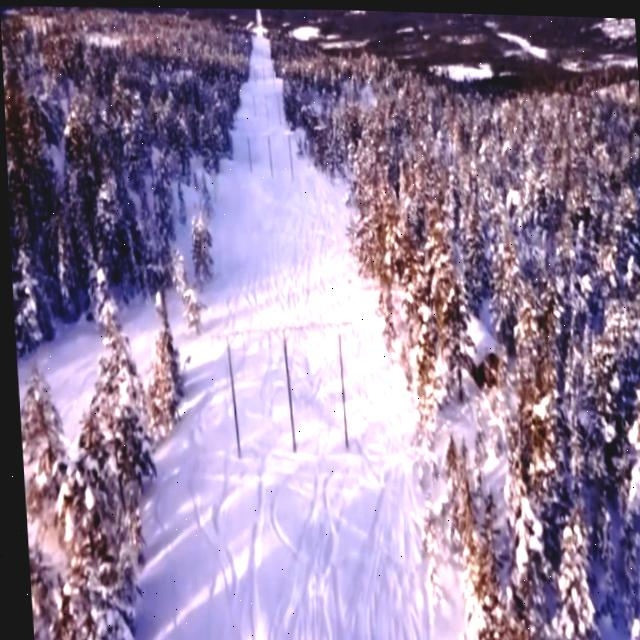poles: (206, 315, 352, 457), (241, 128, 295, 182)
